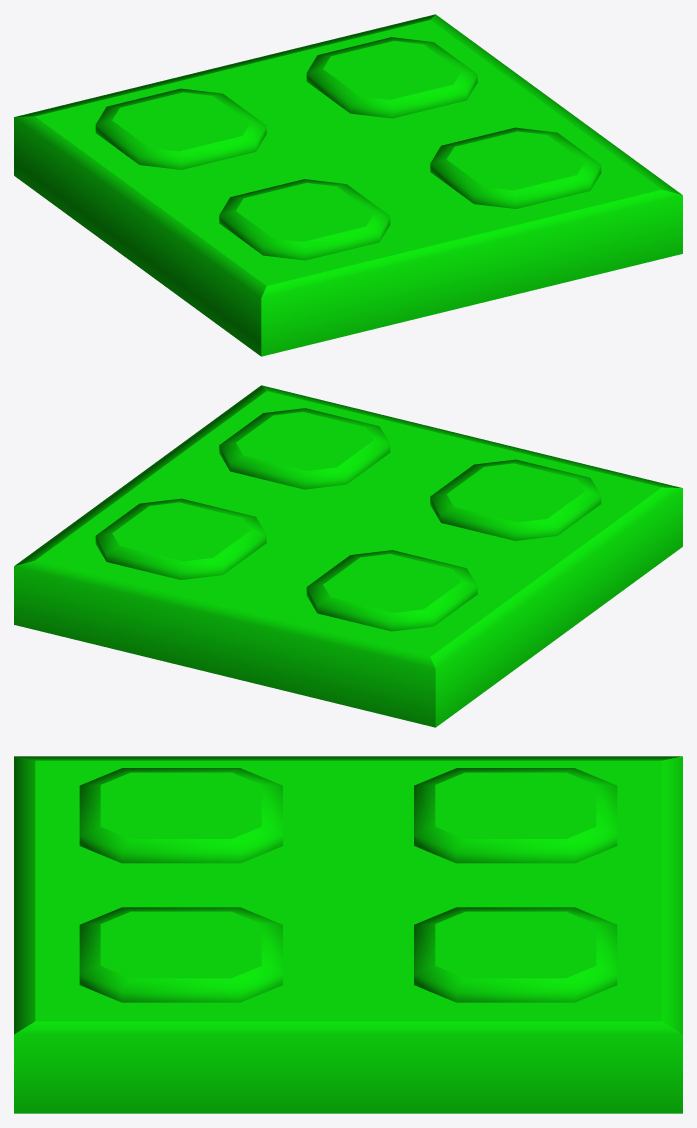
File: block.fbx
3 renders of one model, top to bottom at view 1: azimuth 30°, elevation 25°; view 2: azimuth 150°, elevation 25°; view 3: azimuth 270°, elevation 25°, orthographic. The views are drawn at different scales.
Visible parts, largest first — view 1: bevel-hq-brick-2x2; view 2: bevel-hq-brick-2x2; view 3: bevel-hq-brick-2x2.
Boxes of the visible parts, x1,y1,x2,y2 form: bevel-hq-brick-2x2: (14,14,682,356); bevel-hq-brick-2x2: (14,385,682,727); bevel-hq-brick-2x2: (14,756,682,1113).
Size of the model in its own units: 1.98 by 0.3283 by 2.01.
